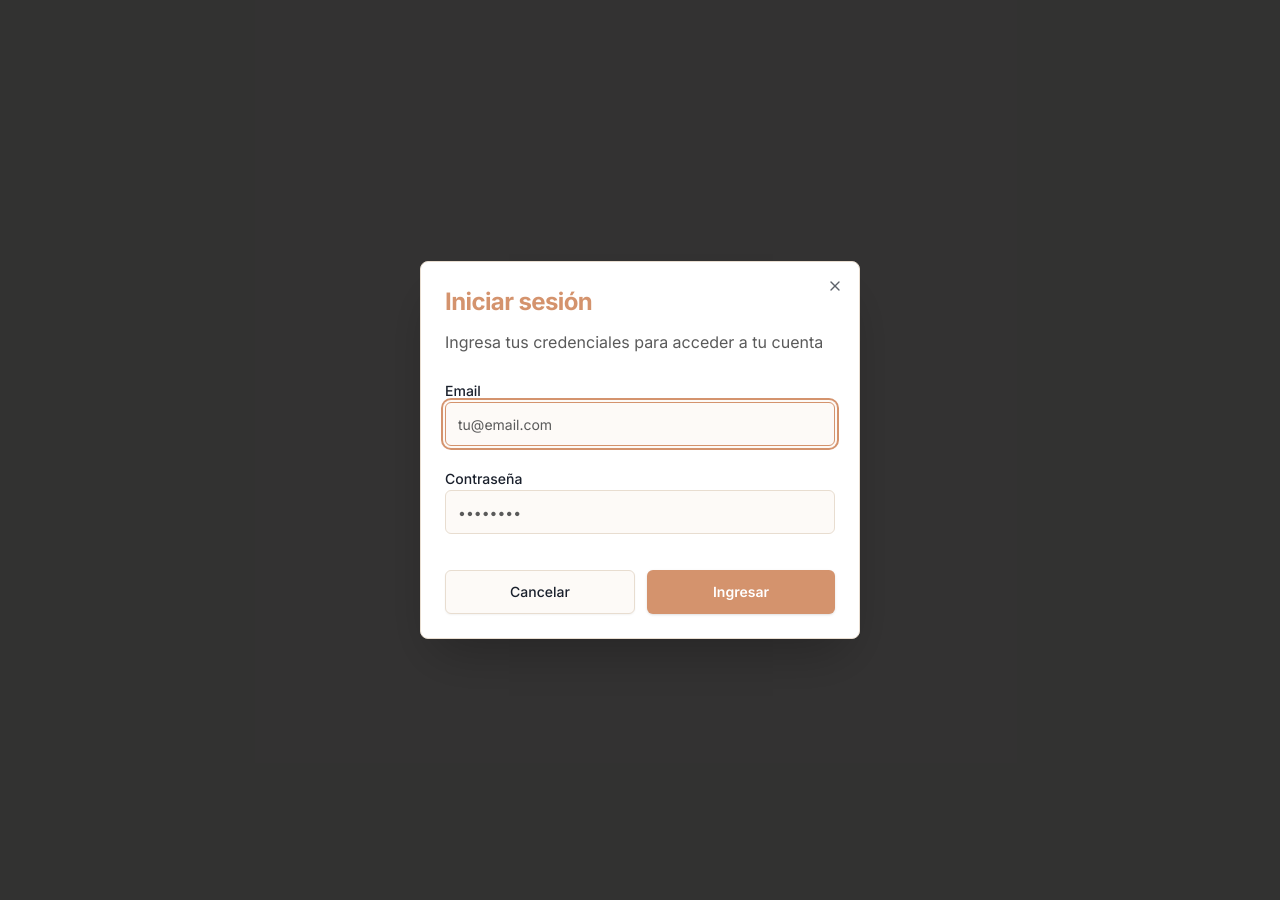
Test case: LoginModal › should display network error message when connection fails
Type "test@example.com" into the field labelled "Email" at (640, 424), box x1=445 y1=402 x2=835 y2=446
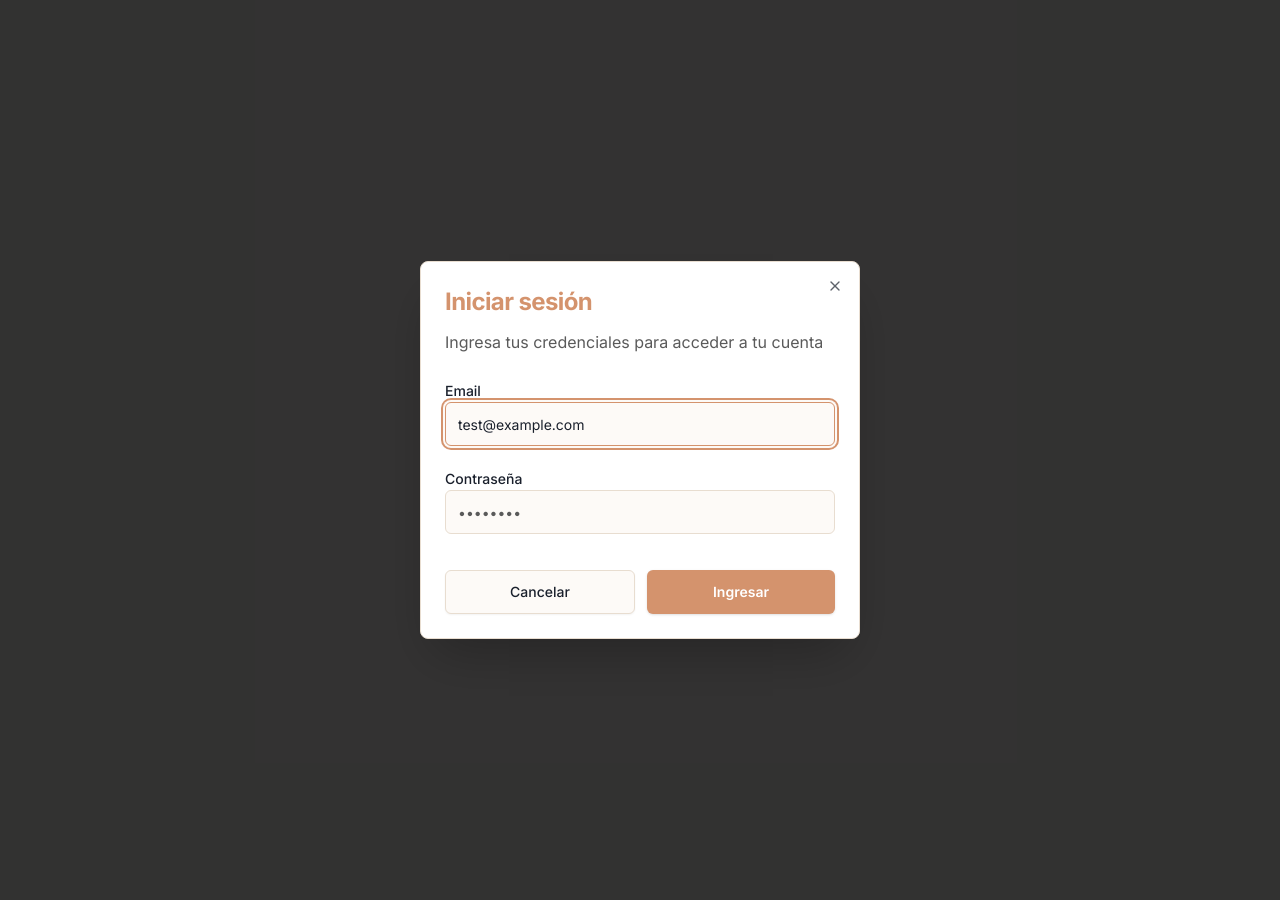
Type "password123" into the password field labelled "Contraseña" at (640, 512), box x1=445 y1=490 x2=835 y2=534
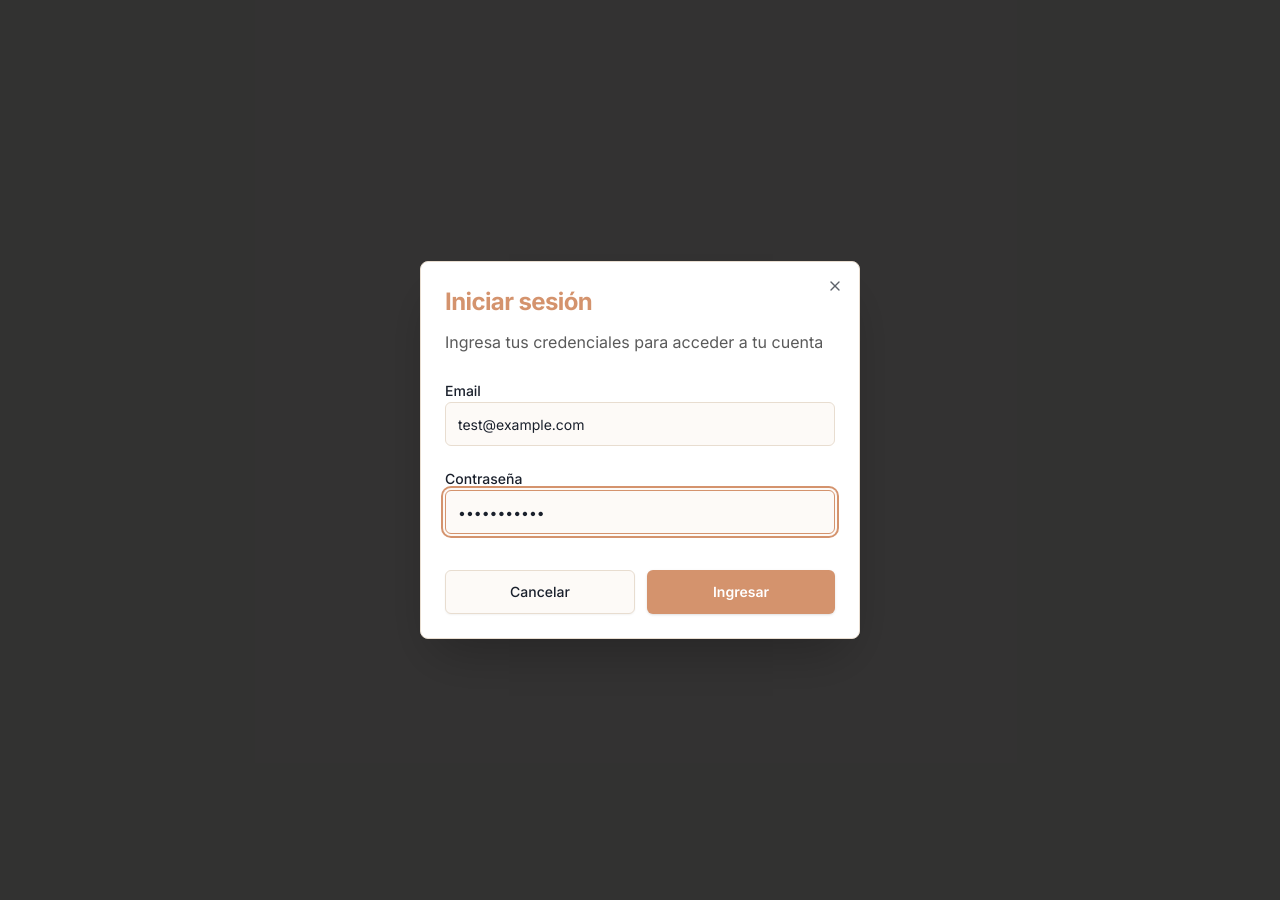
Click the button "Ingresar" at (741, 592), box x1=647 y1=570 x2=835 y2=614
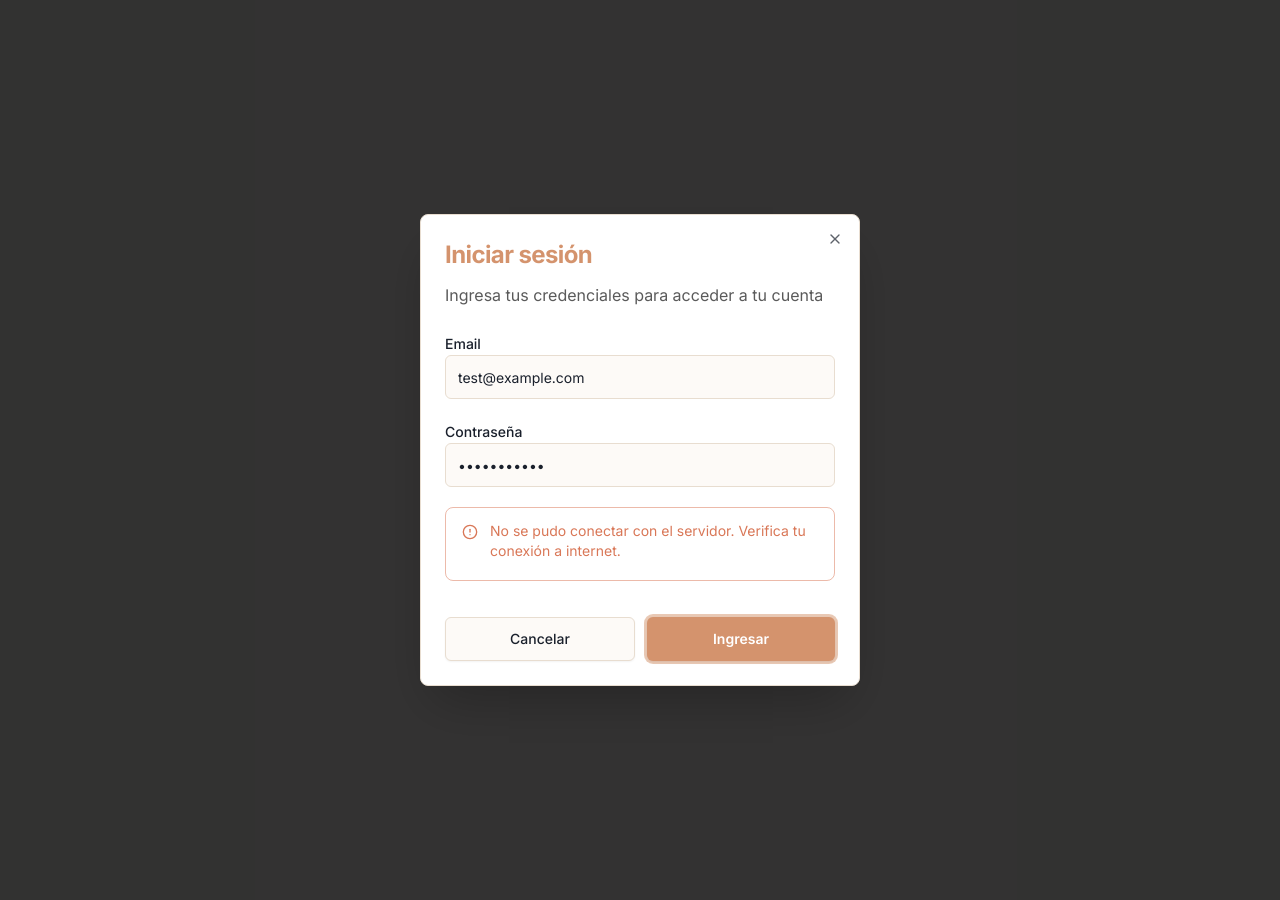
Now the text "No se pudo conectar con el servidor" is shown, box x1=490 y1=522 x2=806 y2=559
